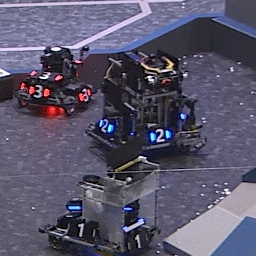Blue: (149, 127, 172, 144), (97, 118, 112, 134)
Dead: (65, 219, 97, 241), (125, 232, 150, 251)
Red: (28, 83, 50, 101), (30, 70, 63, 82), (78, 87, 93, 102)
Robot: (91, 48, 207, 159), (43, 156, 161, 256), (16, 45, 97, 115)
